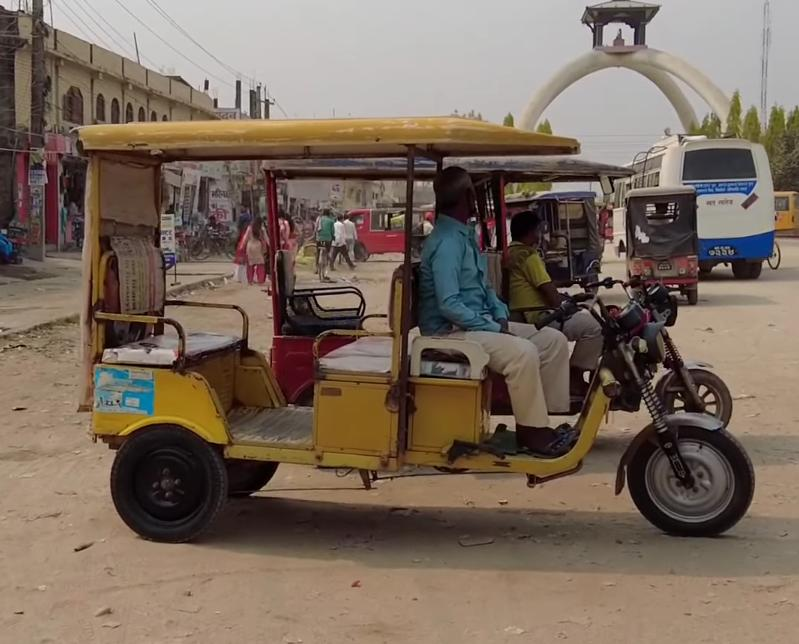bus: (614, 130, 775, 281)
e-rickshaw: (68, 106, 754, 546), (620, 183, 706, 313)
